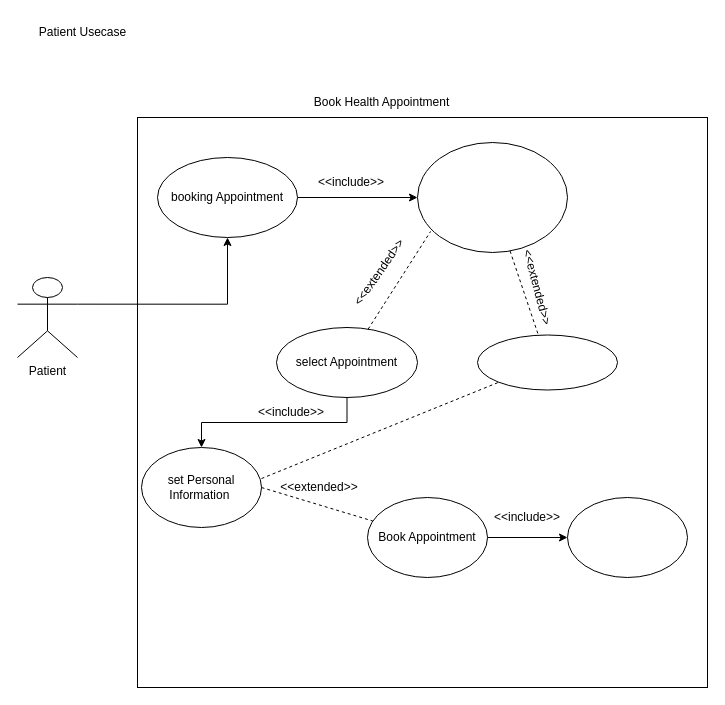
Image size: 725x705. Some labels were removed from this diagram. The shapes that lost their labels are listed below. From the top down, each one's centre as x and y in pixels, then its label:
point (492, 197): Show available appointments
point (547, 362): Proces Cancellation
point (627, 537): Show Booking Message
